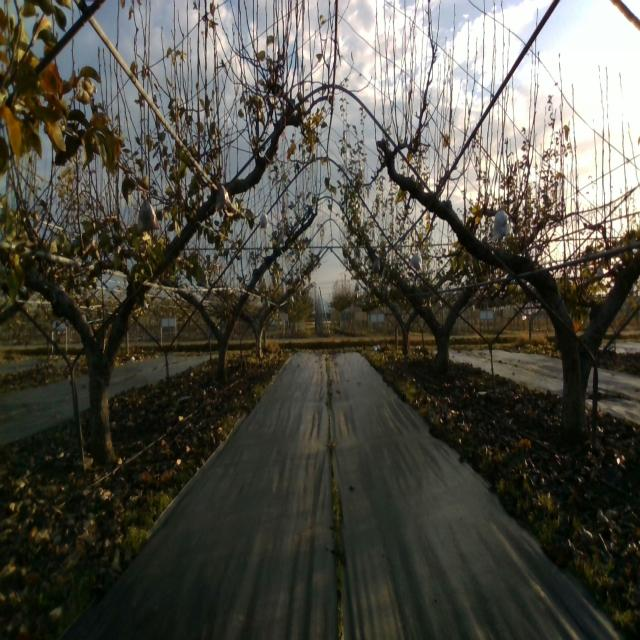pearbags: (137, 194, 160, 236), (491, 205, 511, 242), (215, 182, 231, 212)
